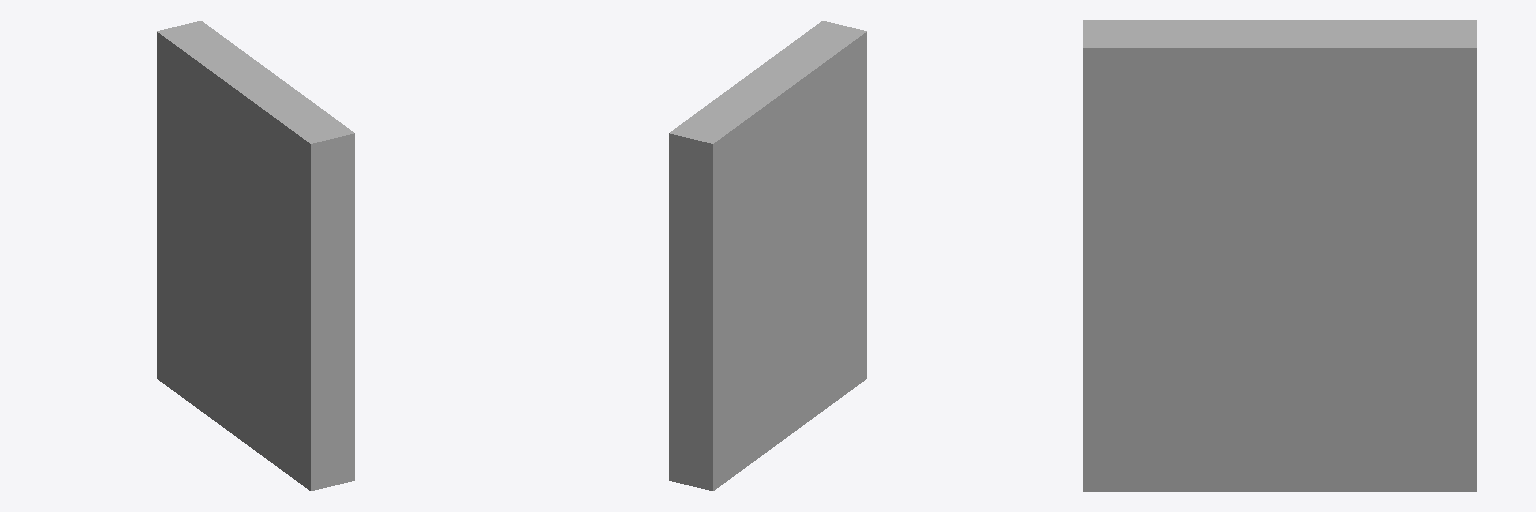
robot.urdf — root:
<robot name="root">
  <link name="link_8362720e40cf45cdc0d3742cb5ee0e30_convex_piece_0">
    <inertial>
      <origin rpy="0 0 0" xyz="0 0 0"/>
      <mass value="1.64E-05"/>
      <inertia ixx="7.25E-09" ixy="1.59E-13" ixz="-3.44E-43" iyy="4.48E-09" iyz="-3.35E-27" izz="2.92E-09"/>
    </inertial>
    <visual>
      <origin rpy="0 0 0" xyz="0 0 0"/>
      <geometry>
        <mesh filename="8362720e40cf45cdc0d3742cb5ee0e30_convex_piece_0.obj" scale="1.0000E+00"/>
      </geometry>
      <material name="">
        <color rgba="7.50E-01 7.50E-01 7.50E-01 1"/>
      </material>
    </visual>
    <collision>
      <origin rpy="0 0 0" xyz="0 0 0"/>
      <geometry>
        <mesh filename="8362720e40cf45cdc0d3742cb5ee0e30_convex_piece_0.obj" scale="1.0000E+00"/>
      </geometry>
    </collision>
  </link>
</robot>

--- Facts derived from the render (not from the file) ---
Views: 3 orthographic renders of the robot side by side, from view 1: azimuth 30°, elevation 25°; view 2: azimuth 150°, elevation 25°; view 3: azimuth 270°, elevation 25°.
Model root with 1 links and 0 joints (none), rooted at link_8362720e40cf45cdc0d3742cb5ee0e30_convex_piece_0, posed all joints at 0.
Links seen in each view (by area): view 1: link_8362720e40cf45cdc0d3742cb5ee0e30_convex_piece_0; view 2: link_8362720e40cf45cdc0d3742cb5ee0e30_convex_piece_0; view 3: link_8362720e40cf45cdc0d3742cb5ee0e30_convex_piece_0.
Boxes of the visible links, box(x1,y1,x2,y2) form: link_8362720e40cf45cdc0d3742cb5ee0e30_convex_piece_0: box(157, 21, 354, 490); link_8362720e40cf45cdc0d3742cb5ee0e30_convex_piece_0: box(669, 21, 866, 490); link_8362720e40cf45cdc0d3742cb5ee0e30_convex_piece_0: box(1083, 20, 1476, 491).
Bounding box of the posed robot: 0.0076 × 0.0457 × 0.0568 m (x, y, z).
Meshes: 1 distinct files referenced, 1 mesh visuals loaded (1 OBJ).